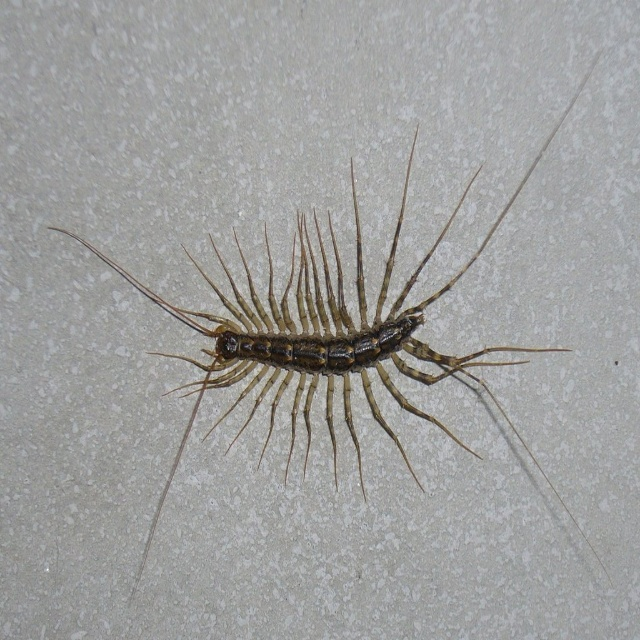Centipede: (48, 49, 612, 609)
